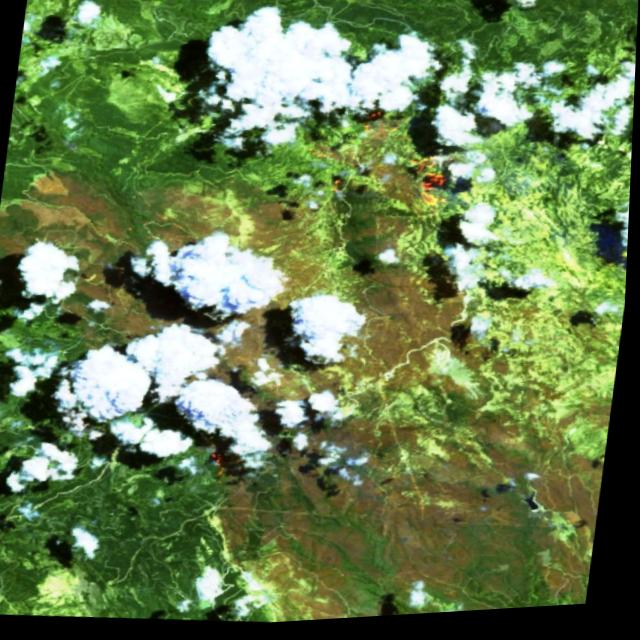fire: (391, 155, 476, 206), (350, 106, 397, 133), (327, 173, 356, 204)
